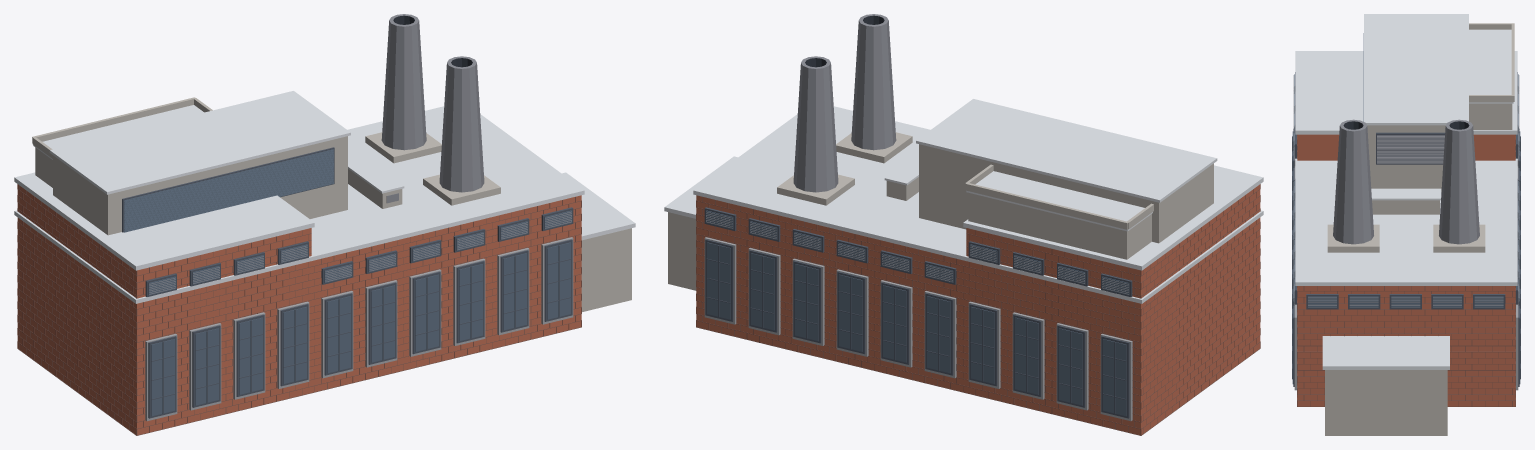
Rendered from texnik_bino.glb.
3 views of the same model, side by side, from view 1: azimuth 30°, elevation 25°; view 2: azimuth 150°, elevation 25°; view 3: azimuth 270°, elevation 25° (orthographic). The views are drawn at different scales.
Visible parts, largest first — view 1: Main_brick_hall, Main_roof_slab, Brick_joints_all_facades, Main_rooftop_HVAC_white_cover, Raised_left_roof, Main_rooftop_HVAC_housing, Raised_left_brick_section, Front_smokestack_hollow_tapered_mesh, Rear_smokestack_hollow_tapered_mesh, Right_attached_utility_shed, Utility_shed_white_roof, Rear_room_roof (+36 smaller); view 2: Main_brick_hall, Main_roof_slab, Brick_joints_all_facades, Main_rooftop_HVAC_white_cover, Main_rooftop_HVAC_housing, Raised_left_brick_section, Rear_upper_service_room, Rear_smokestack_hollow_tapered_mesh, Front_smokestack_hollow_tapered_mesh, Raised_left_roof, Rear_room_roof, Right_attached_utility_shed (+35 smaller); view 3: Main_roof_slab, Main_brick_hall, Main_rooftop_HVAC_white_cover, Right_attached_utility_shed, Raised_left_roof, Utility_shed_white_roof, Front_smokestack_hollow_tapered_mesh, Rear_smokestack_hollow_tapered_mesh, Brick_joints_all_facades, Rear_room_roof, Main_rooftop_HVAC_housing, Raised_left_brick_section (+16 smaller).
Boxes of the visible parts, x1=… form: Main_brick_hall: x1=17, y1=195, x2=581, y2=435; Main_roof_slab: x1=14, y1=106, x2=584, y2=303; Brick_joints_all_facades: x1=17, y1=184, x2=581, y2=435; Main_rooftop_HVAC_white_cover: x1=49, y1=91, x2=350, y2=194; Raised_left_roof: x1=14, y1=172, x2=314, y2=270; Main_rooftop_HVAC_housing: x1=53, y1=136, x2=347, y2=235; Raised_left_brick_section: x1=17, y1=184, x2=311, y2=298; Front_smokestack_hollow_tapered_mesh: x1=439, y1=56, x2=484, y2=192; Rear_smokestack_hollow_tapered_mesh: x1=381, y1=14, x2=426, y2=150; Right_attached_utility_shed: x1=581, y1=228, x2=631, y2=311; Utility_shed_white_roof: x1=562, y1=172, x2=635, y2=240; Rear_room_roof: x1=33, y1=105, x2=203, y2=159; Main_brick_hall: x1=696, y1=195, x2=1260, y2=435; Main_roof_slab: x1=693, y1=106, x2=1263, y2=303; Brick_joints_all_facades: x1=696, y1=184, x2=1260, y2=435; Main_rooftop_HVAC_white_cover: x1=916, y1=99, x2=1217, y2=202; Main_rooftop_HVAC_housing: x1=919, y1=144, x2=1213, y2=243; Raised_left_brick_section: x1=966, y1=184, x2=1260, y2=298; Rear_upper_service_room: x1=968, y1=192, x2=1151, y2=259; Rear_smokestack_hollow_tapered_mesh: x1=793, y1=56, x2=838, y2=192; Front_smokestack_hollow_tapered_mesh: x1=851, y1=14, x2=896, y2=150; Raised_left_roof: x1=963, y1=165, x2=1263, y2=270; Rear_room_roof: x1=966, y1=171, x2=1152, y2=231; Right_attached_utility_shed: x1=668, y1=212, x2=696, y2=290; Main_roof_slab: x1=1295, y1=158, x2=1517, y2=285; Main_brick_hall: x1=1297, y1=286, x2=1515, y2=406; Main_rooftop_HVAC_white_cover: x1=1364, y1=14, x2=1468, y2=125; Right_attached_utility_shed: x1=1325, y1=370, x2=1447, y2=435; Raised_left_roof: x1=1295, y1=51, x2=1517, y2=134; Utility_shed_white_roof: x1=1322, y1=336, x2=1449, y2=369; Front_smokestack_hollow_tapered_mesh: x1=1333, y1=119, x2=1373, y2=244; Rear_smokestack_hollow_tapered_mesh: x1=1439, y1=119, x2=1479, y2=244; Brick_joints_all_facades: x1=1297, y1=135, x2=1515, y2=406; Rear_room_roof: x1=1469, y1=29, x2=1513, y2=103; Main_rooftop_HVAC_housing: x1=1367, y1=125, x2=1445, y2=191; Raised_left_brick_section: x1=1297, y1=134, x2=1515, y2=160.
Size of the model in its own units: 32.38 by 15.87 by 13.61.
